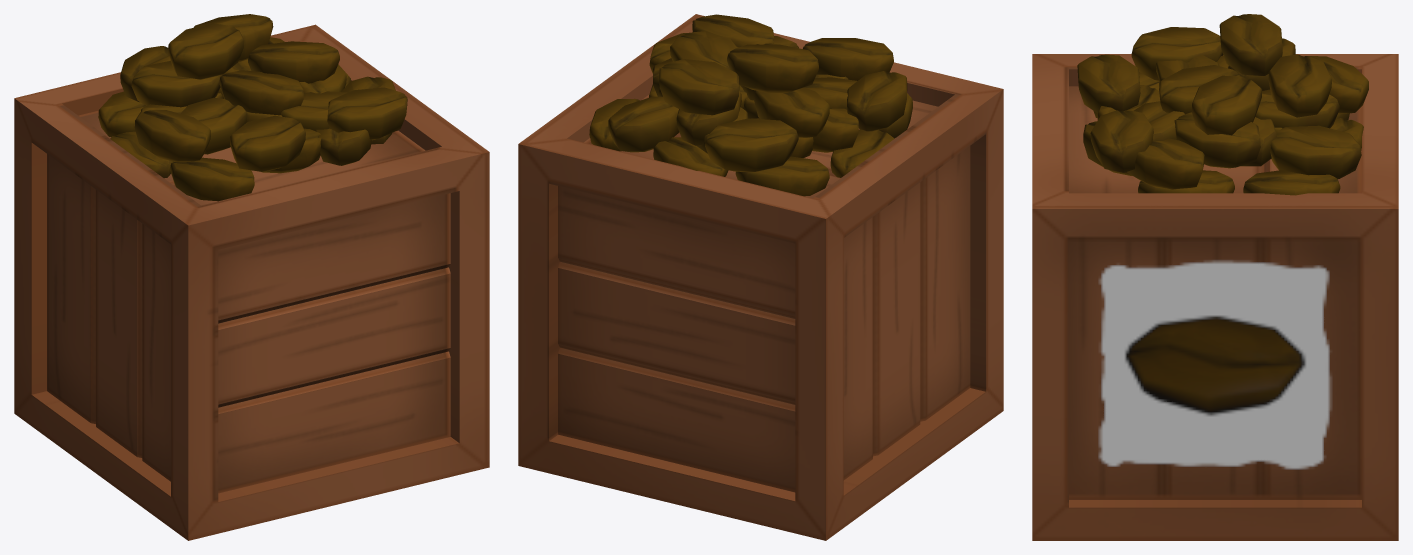
Rendered from caixa torrado.fbx.
3 views of the same model, side by side, from view 1: azimuth 30°, elevation 25°; view 2: azimuth 150°, elevation 25°; view 3: azimuth 270°, elevation 25° (orthographic). The views are drawn at different scales.
Visible parts, largest first — view 1: Caixas.002; view 2: Caixas.002; view 3: Caixas.002.
Boxes of the visible parts, x1,y1,x2,y2 form: Caixas.002: (14, 14, 489, 540); Caixas.002: (518, 14, 1003, 540); Caixas.002: (1032, 14, 1398, 540).
Bounding box in the file's own units: 200 × 252 × 200.
Materials: 2 (2 with a texture image).
